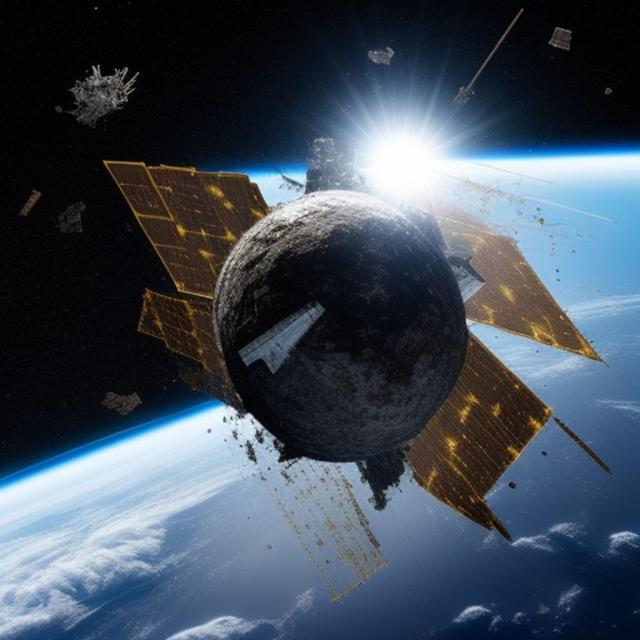large_debris: (103, 130, 613, 526)
